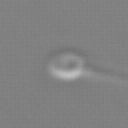normal: (85, 56, 128, 92)
